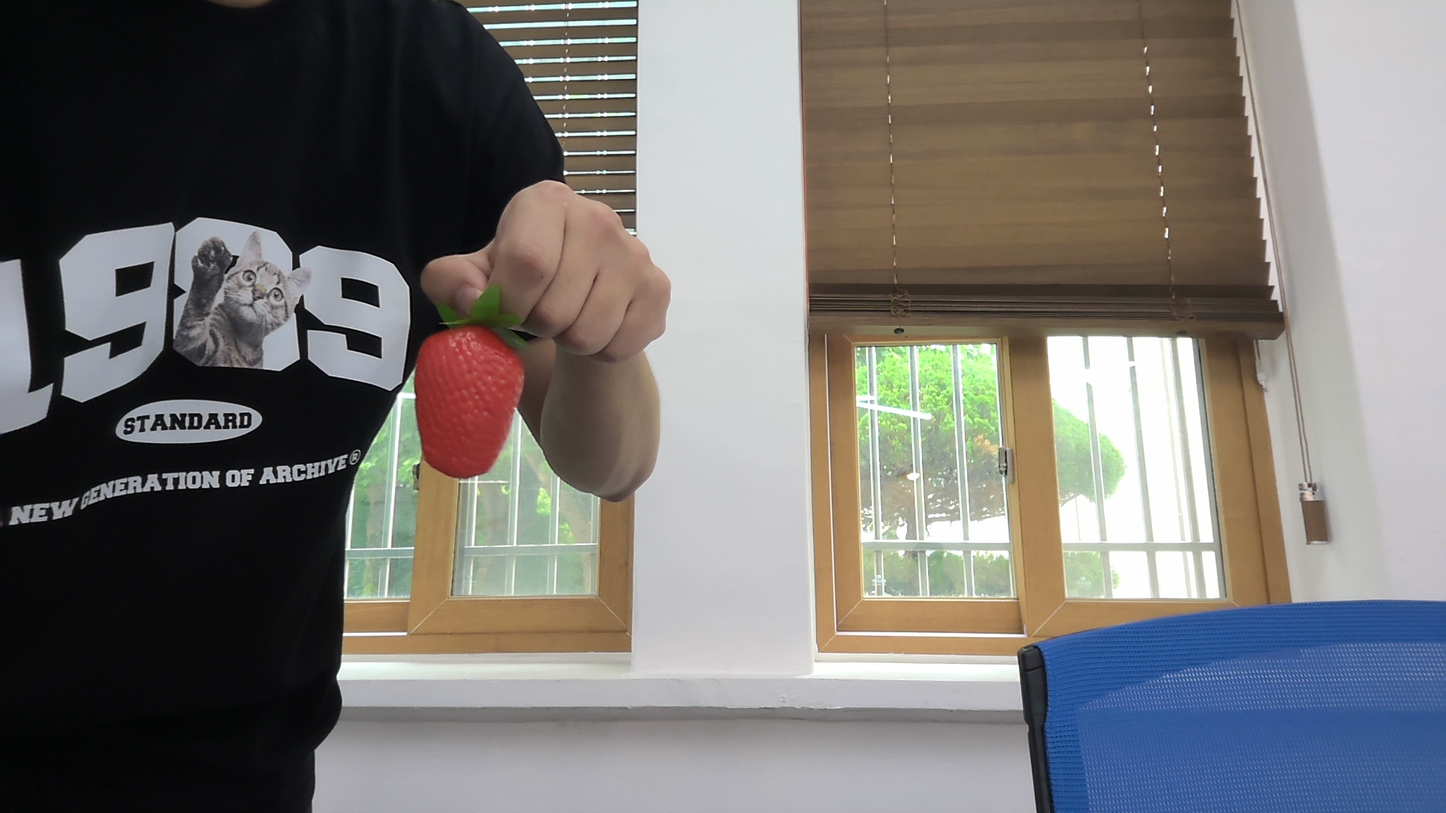strawberry: (398, 315, 534, 484)
